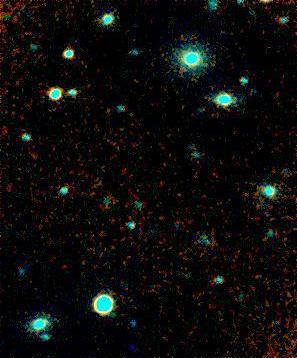star: (165, 179, 195, 209)
